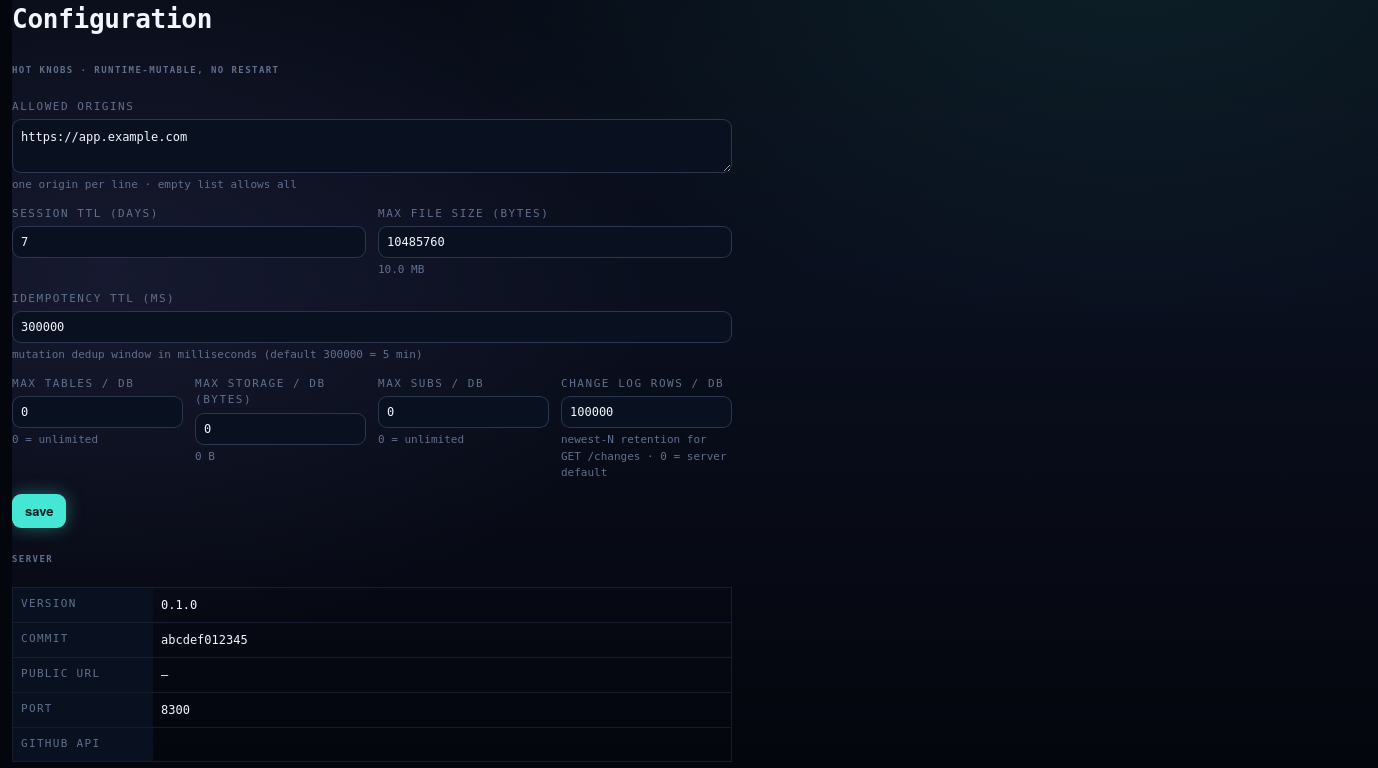
Test: ConfigPage form validation › submits a valid patch and confirms it applied live
Check: the field showing "7" is shown, box left=12, top=226, right=366, bottom=258
Click the button "save" at (39, 510), box left=12, top=494, right=66, bottom=528
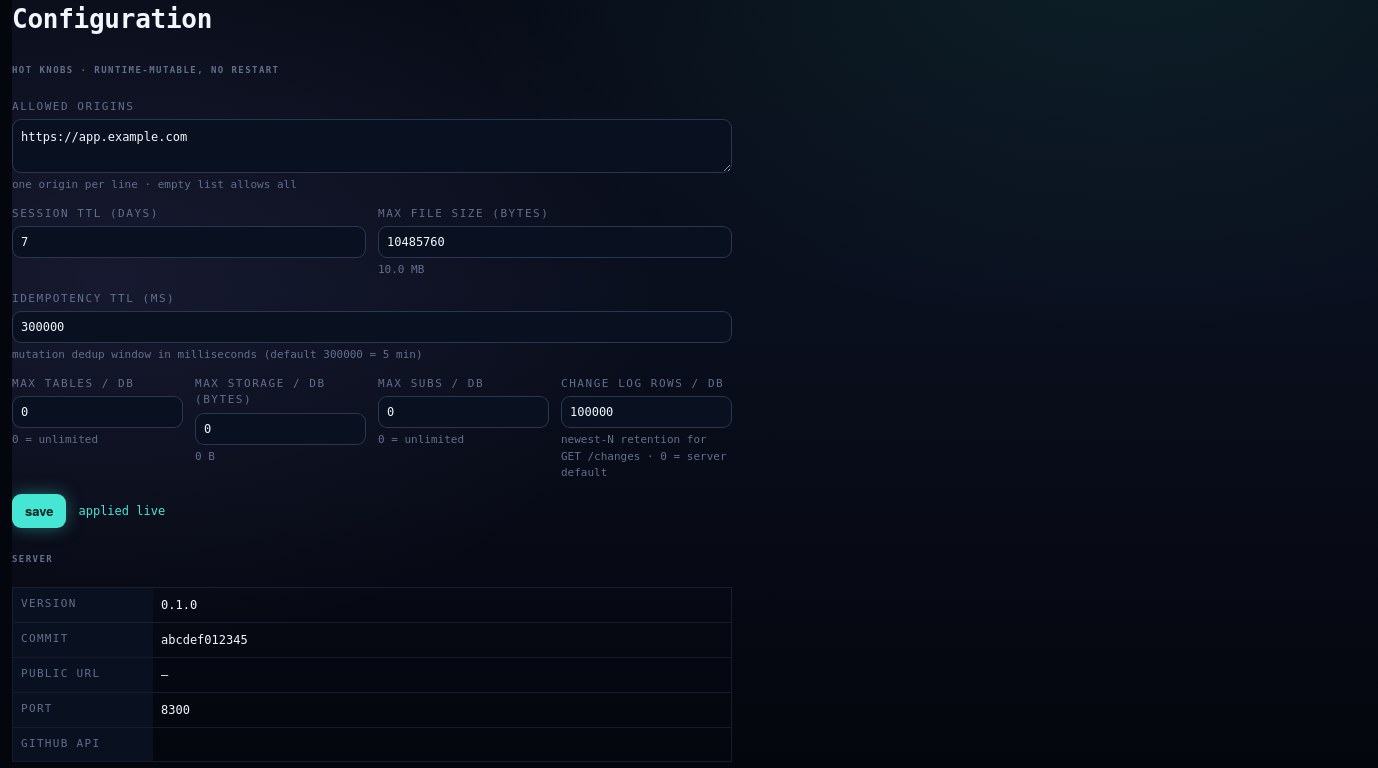
Check: the text "applied live" is shown, box left=78, top=502, right=165, bottom=520
